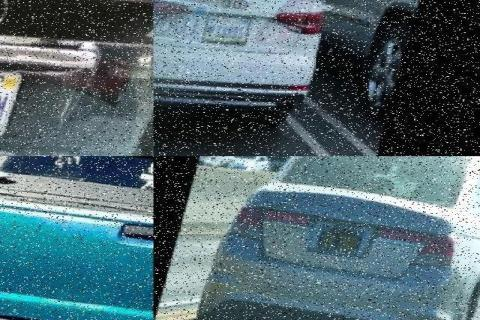LicensePlate: (0, 64, 53, 136), (320, 220, 372, 256)
